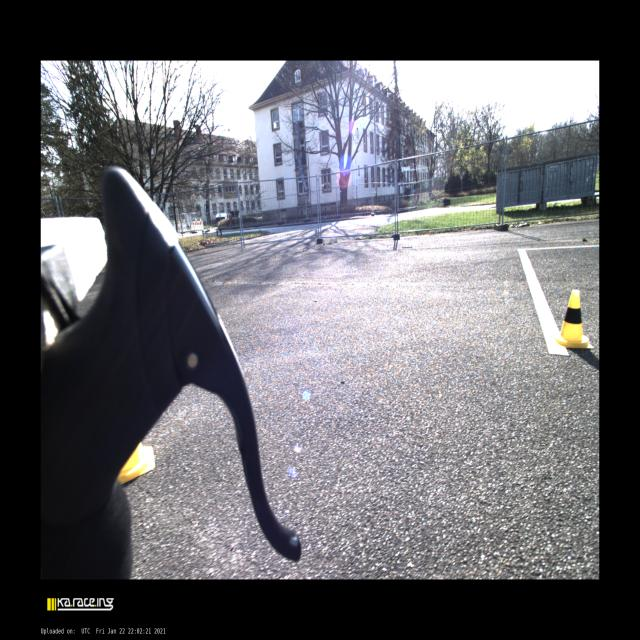yellow_cone: (554, 290, 593, 348)
